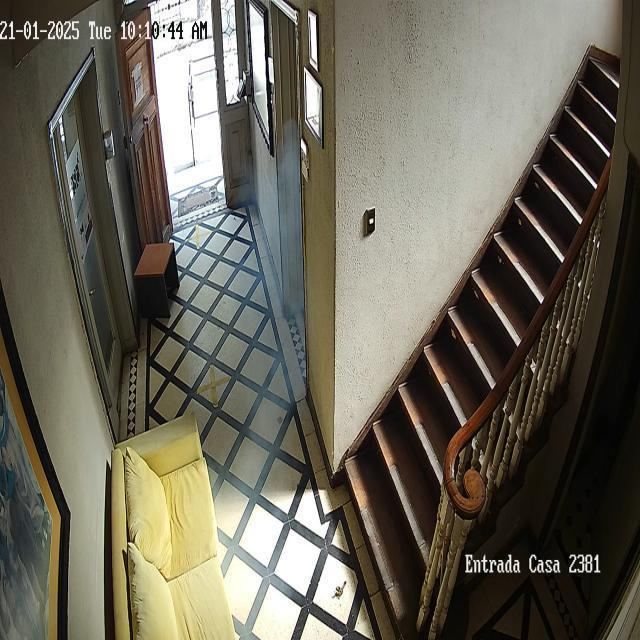fire: (179, 115, 302, 640)
